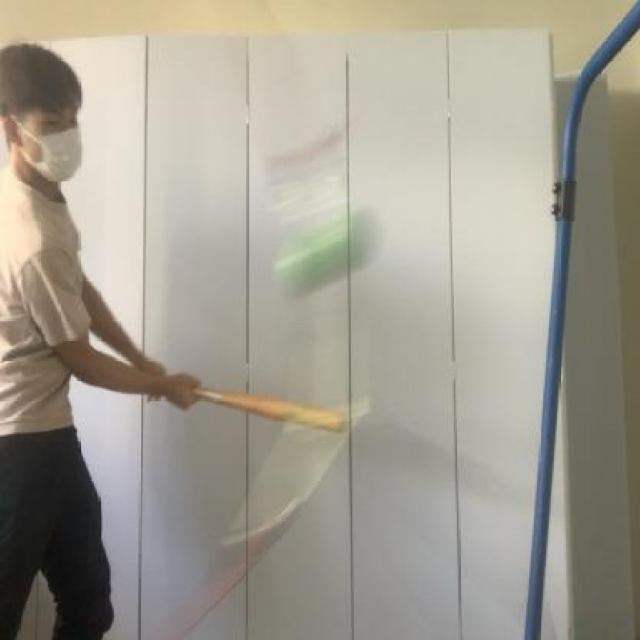baseball: (265, 193, 397, 309)
